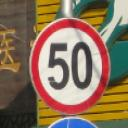speed_limit_50: (29, 16, 111, 114)
